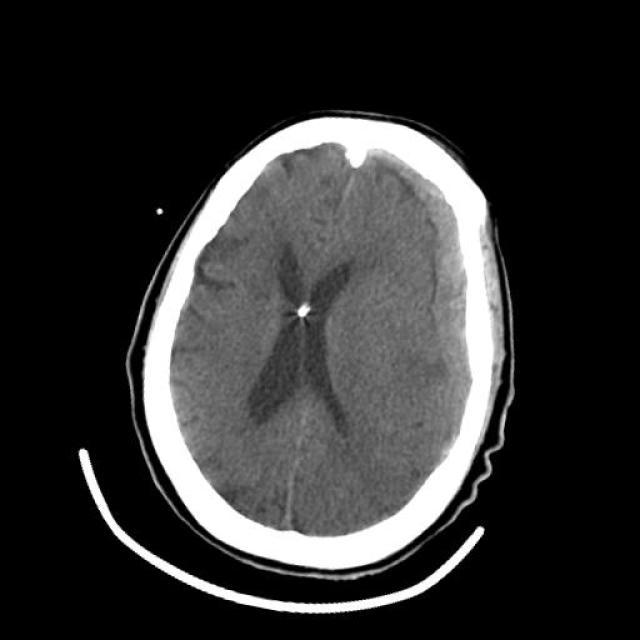Subdural: (333, 142, 543, 388)
